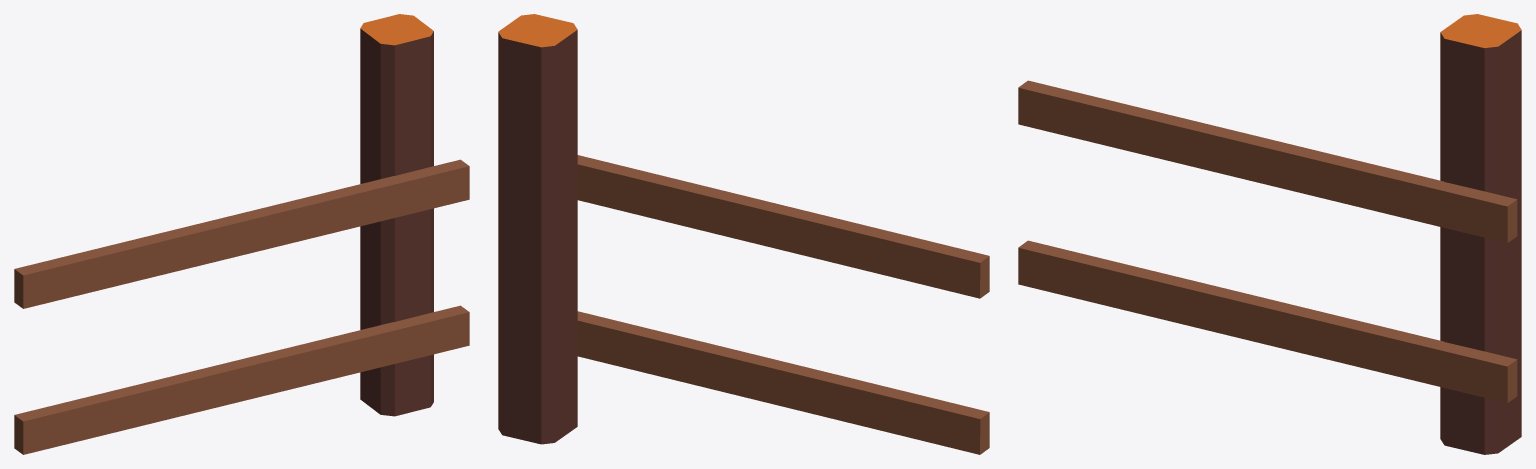
Rendered from Fance_single_support.fbx.
3 renders of one model, left to right at view 1: azimuth 30°, elevation 25°; view 2: azimuth 150°, elevation 25°; view 3: azimuth 330°, elevation 25°, orthographic. The views are drawn at different scales.
Visible parts, largest first — view 1: fence_2; view 2: fence_2; view 3: fence_2.
Boxes of the visible parts, x1=… form: fence_2: x1=14, y1=14, x2=469, y2=454; fence_2: x1=498, y1=14, x2=989, y2=454; fence_2: x1=1018, y1=14, x2=1521, y2=454.
Bounding box in the file's own units: 80.6 × 64.02 × 12.41.
